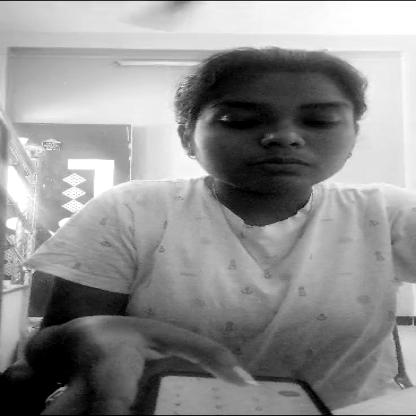Normal: (144, 54, 372, 189)
